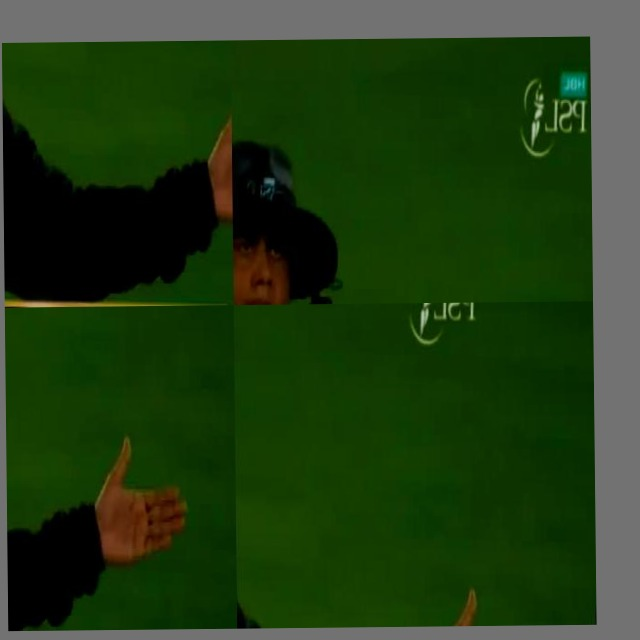No_Action: (26, 306, 144, 631), (480, 36, 593, 302)
No_Ball: (234, 305, 545, 629)
Six: (2, 40, 233, 297)
